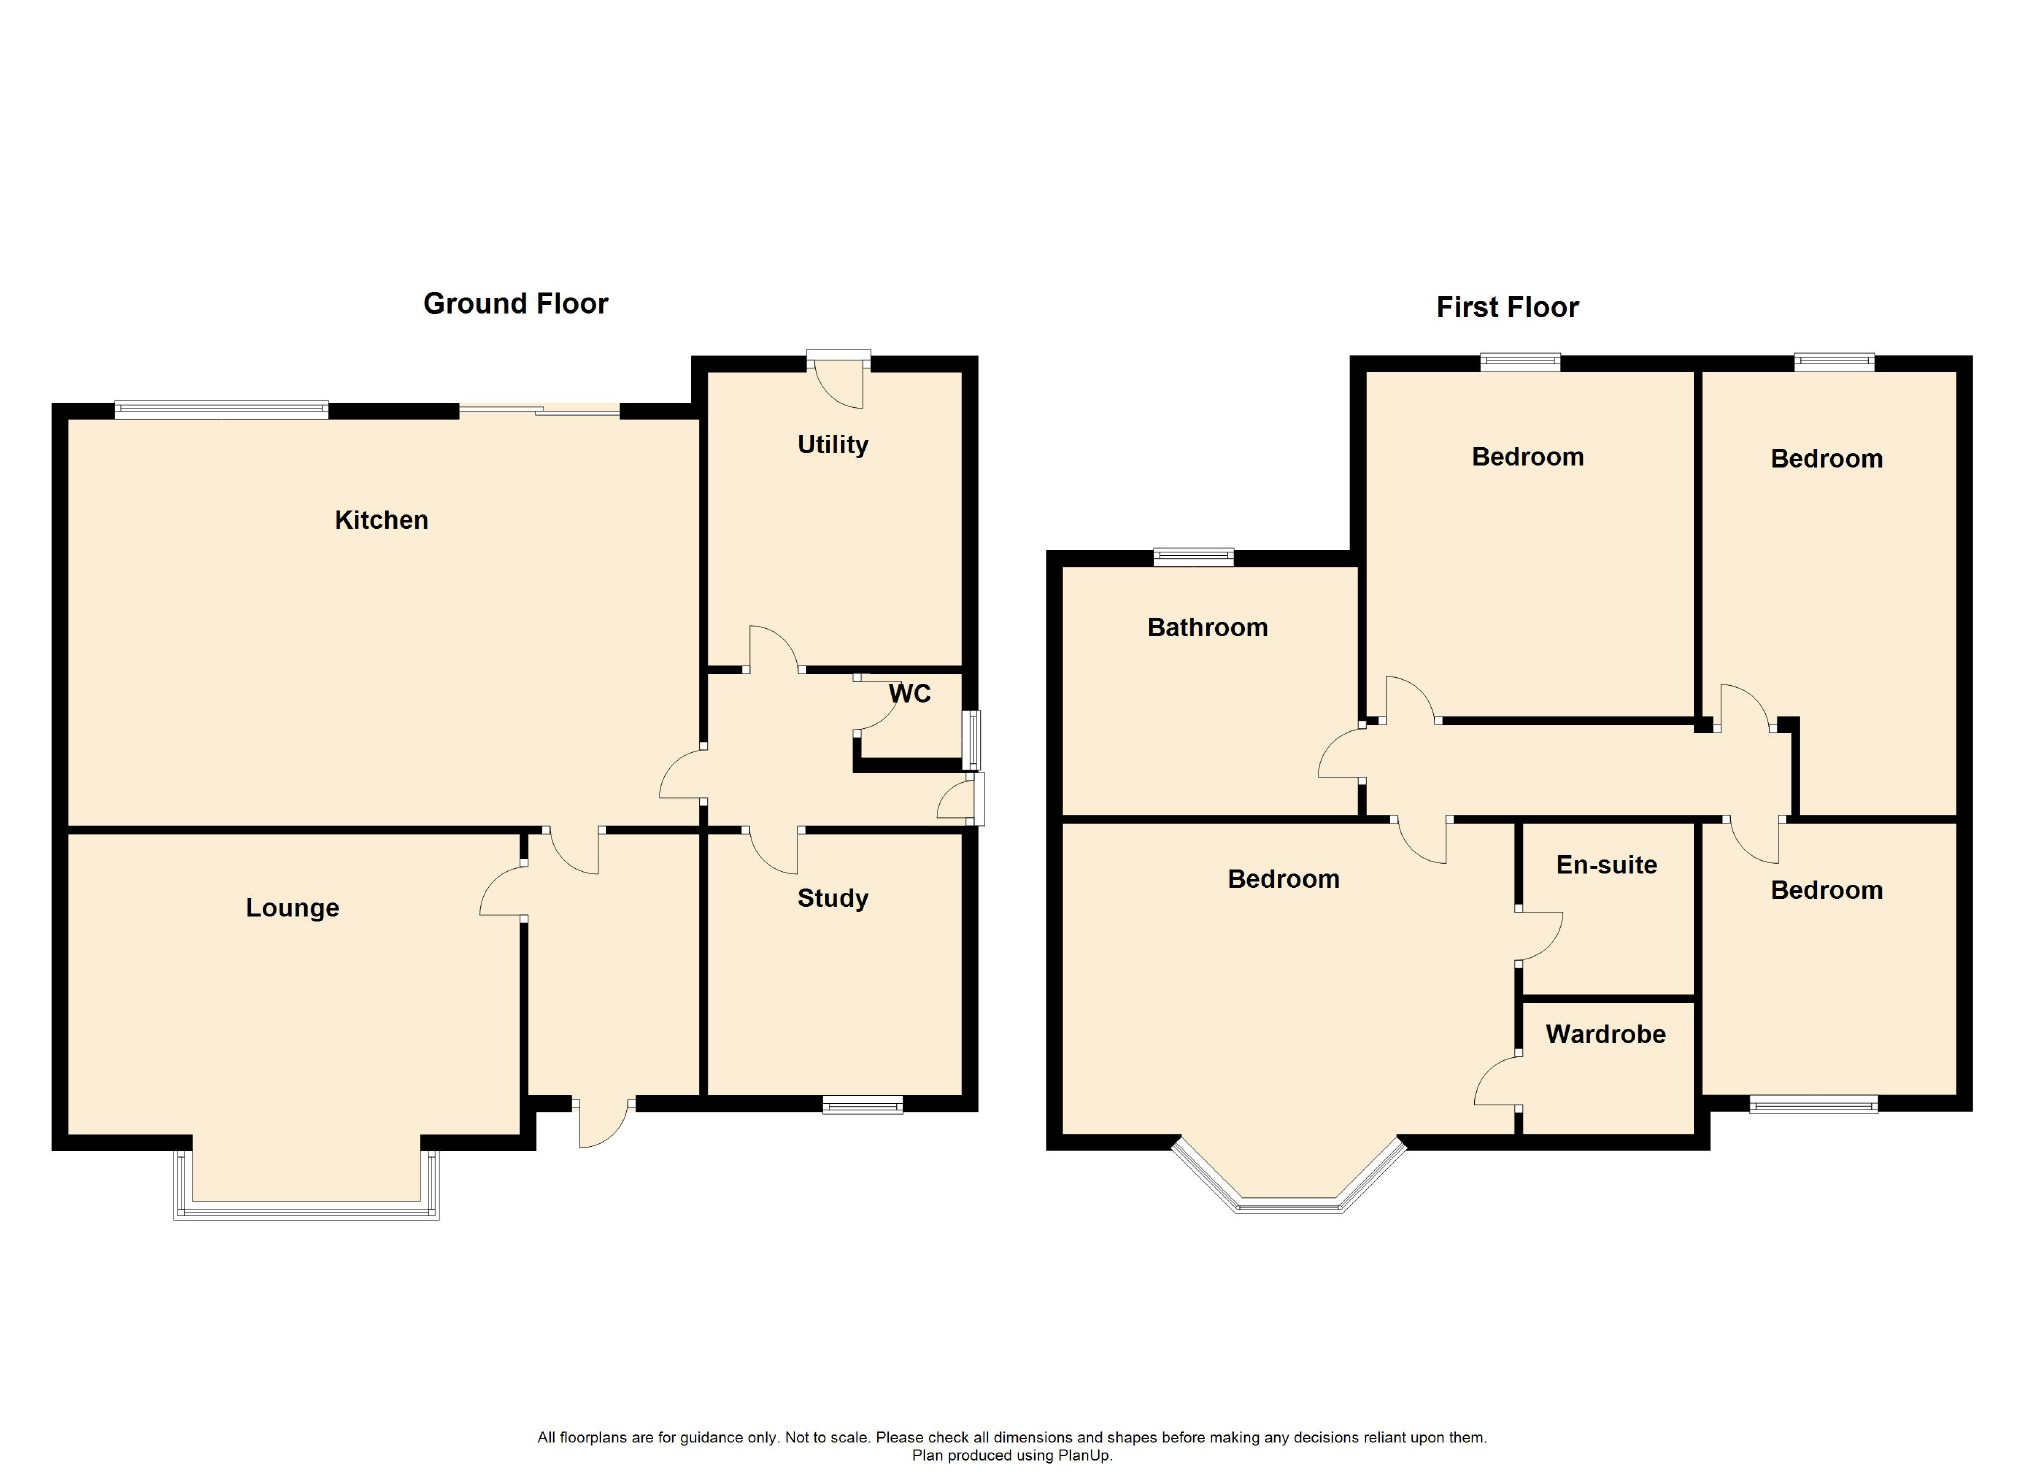door: (1303, 722, 1360, 788), (1714, 671, 1777, 726), (1723, 828, 1788, 880), (1470, 1045, 1516, 1113), (1395, 825, 1453, 877), (472, 858, 517, 924), (1380, 667, 1439, 715), (1523, 902, 1567, 965), (745, 839, 803, 883), (816, 368, 868, 415), (550, 835, 604, 880), (745, 619, 797, 663), (924, 777, 972, 821), (574, 1113, 624, 1154), (656, 755, 696, 803)
